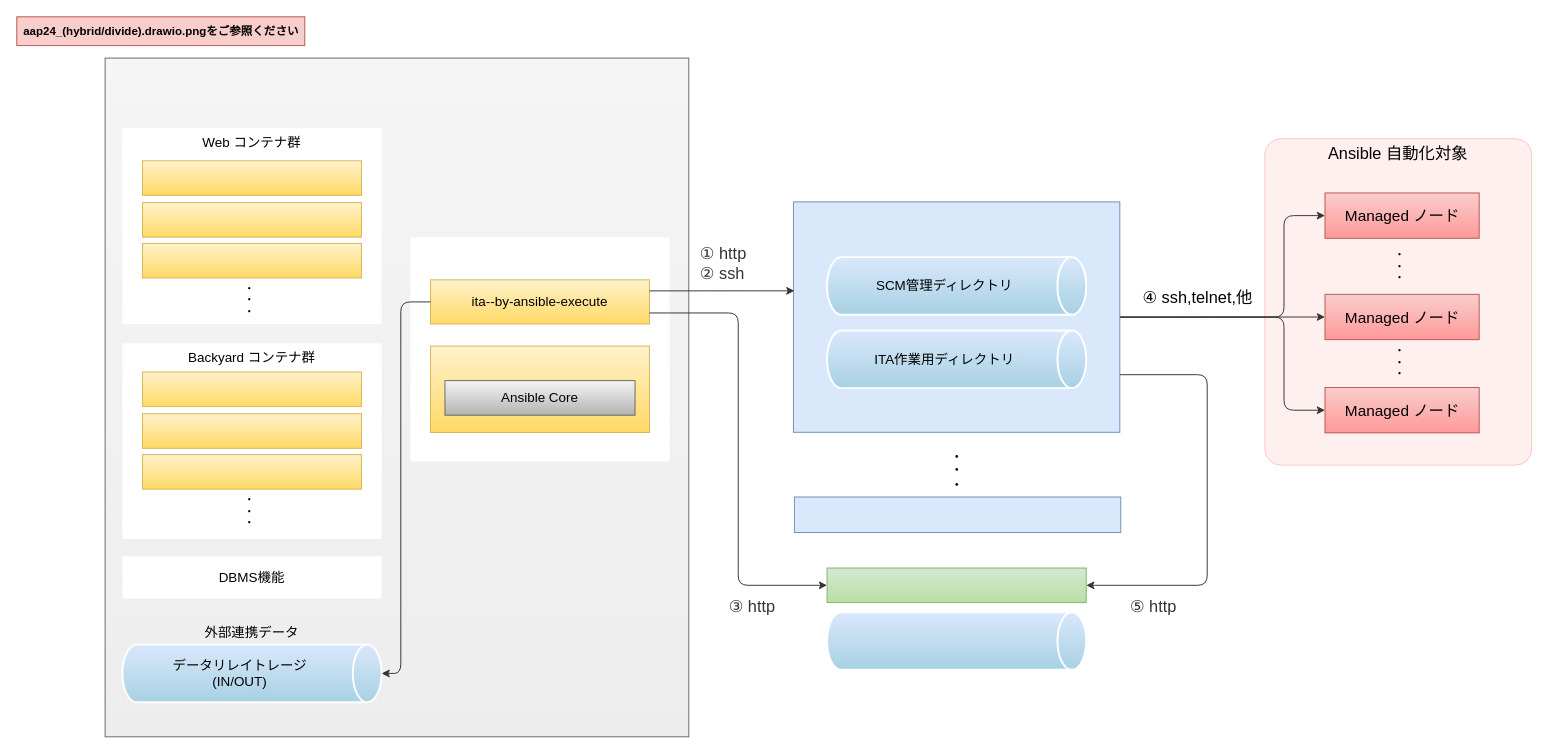
This 1548x754 diagram has some shape labels left out. The shapes that lost their labels are listed below. From the top down, each one's box as (x1, y1, x2, y2) in pixels, then its label:
(792, 201, 1120, 432): Hybrid ノード
(410, 237, 669, 461): Ansible コンテナ群
(104, 57, 689, 737): Exastro ITAシステム (+ Ansible driver)
(430, 345, 649, 432): ita-by-ansible-agent
(826, 567, 1086, 603): Git
(826, 611, 1087, 670): Git リポジトリ
